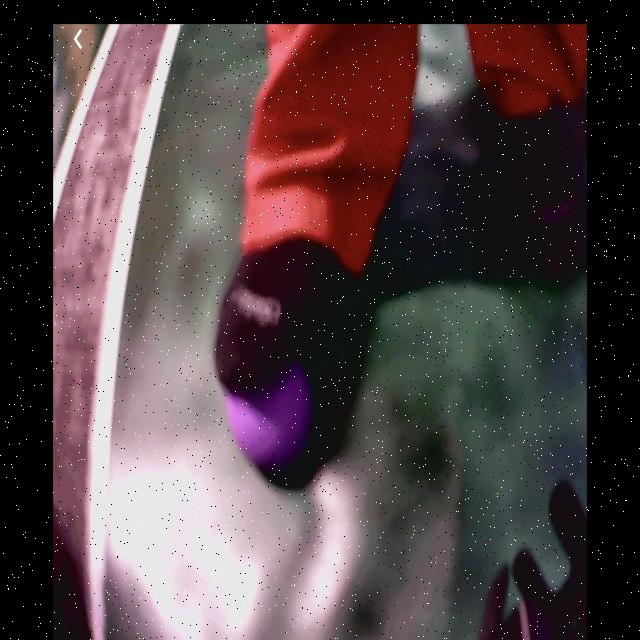ball: (230, 357, 312, 465)
